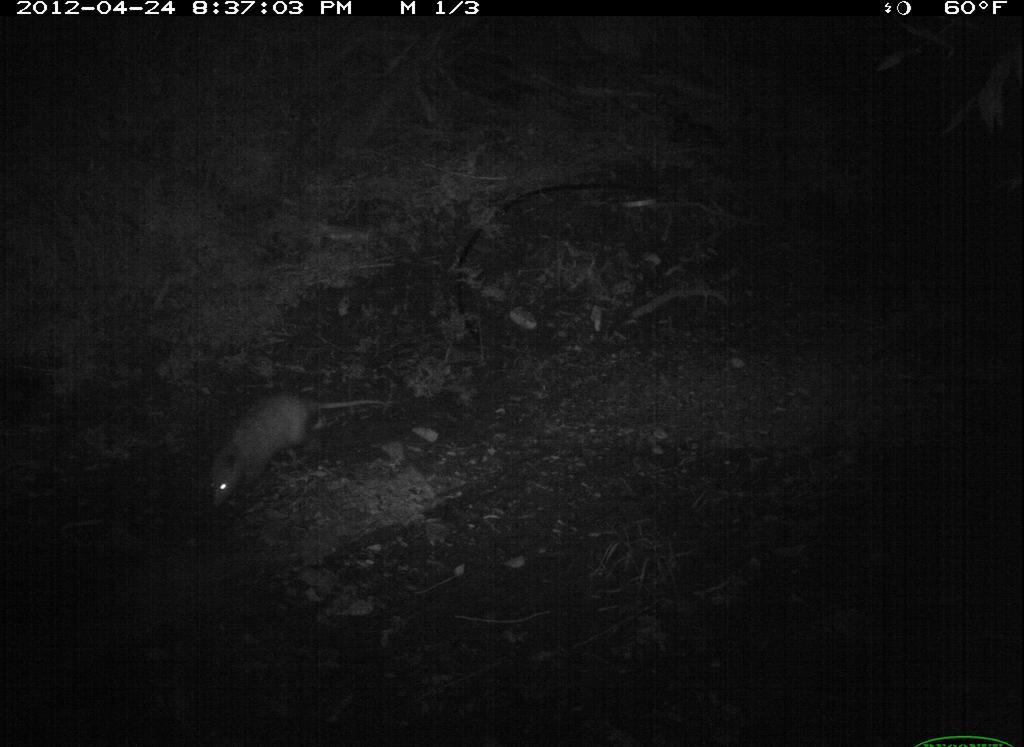opossum: (175, 378, 397, 529)
